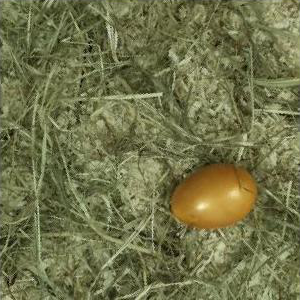egg: (169, 163, 260, 229)
